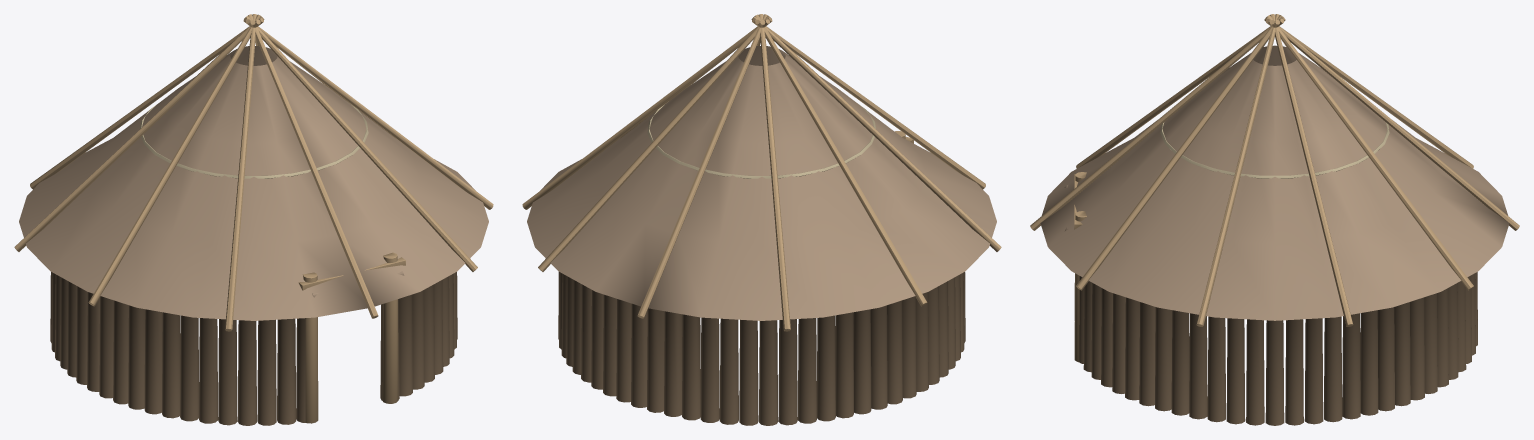
The model's file is dh_hut.glb.
The picture shows the model from 3 angles, left to right: view 1: azimuth 30°, elevation 25°; view 2: azimuth 150°, elevation 25°; view 3: azimuth 270°, elevation 25°; orthographic projection.
Parts seen in each view (by area): view 1: dh_hut; view 2: dh_hut; view 3: dh_hut.
Boxes of the visible parts, x1,y1,x2,y2 form: dh_hut: (14, 14, 493, 425); dh_hut: (522, 14, 1001, 425); dh_hut: (1030, 14, 1519, 425).
Bounding box in the file's own units: 6.3 × 4.78 × 6.56.
